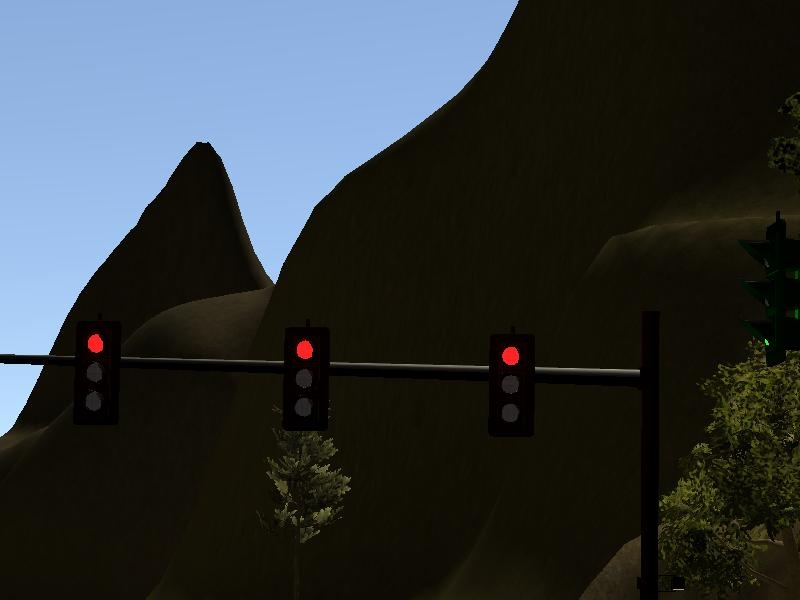red: (487, 333, 534, 440), (72, 319, 119, 426), (282, 326, 329, 433)
